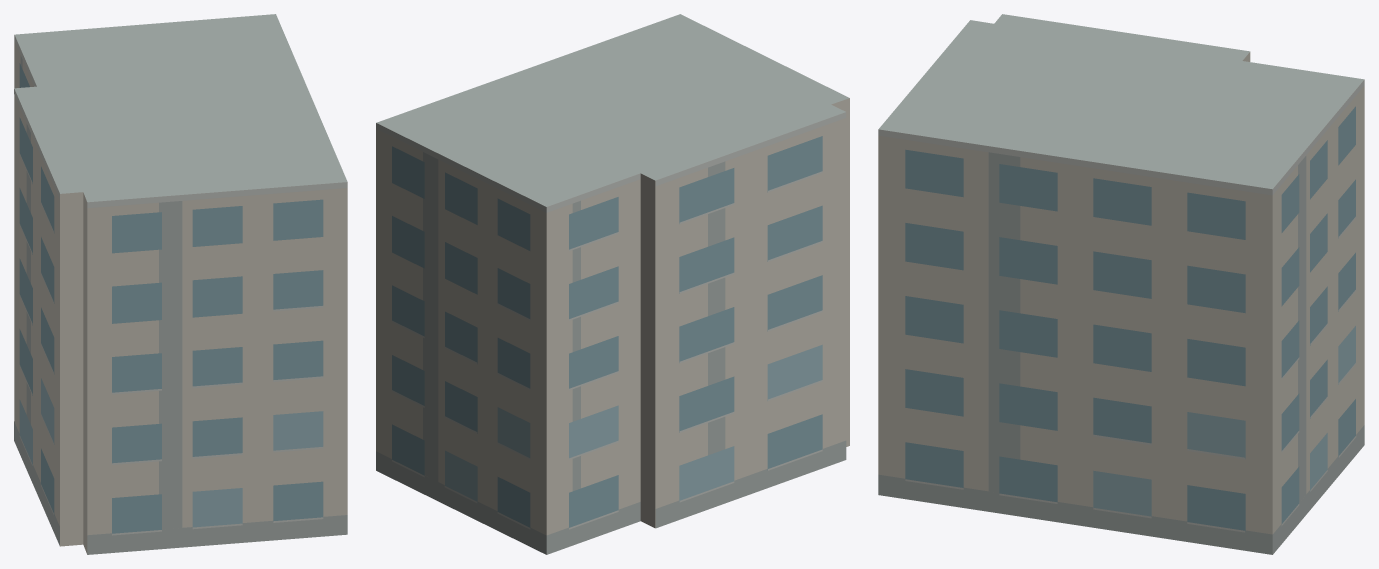
Rendered from survey-upis-32894280.glb.
3 views of the same model, side by side, from view 1: azimuth 30°, elevation 25°; view 2: azimuth 150°, elevation 25°; view 3: azimuth 270°, elevation 25° (orthographic). The views are drawn at different scales.
Parts seen in each view (by area): view 1: survey-upis-32894280.tmp; view 2: survey-upis-32894280.tmp; view 3: survey-upis-32894280.tmp.
Boxes of the visible parts, box(x1,y1,x2,y2) form: survey-upis-32894280.tmp: box(14, 14, 347, 554); survey-upis-32894280.tmp: box(376, 14, 849, 554); survey-upis-32894280.tmp: box(878, 14, 1364, 554).
Size of the model in its own units: 14.86 by 14.45 by 17.42.
